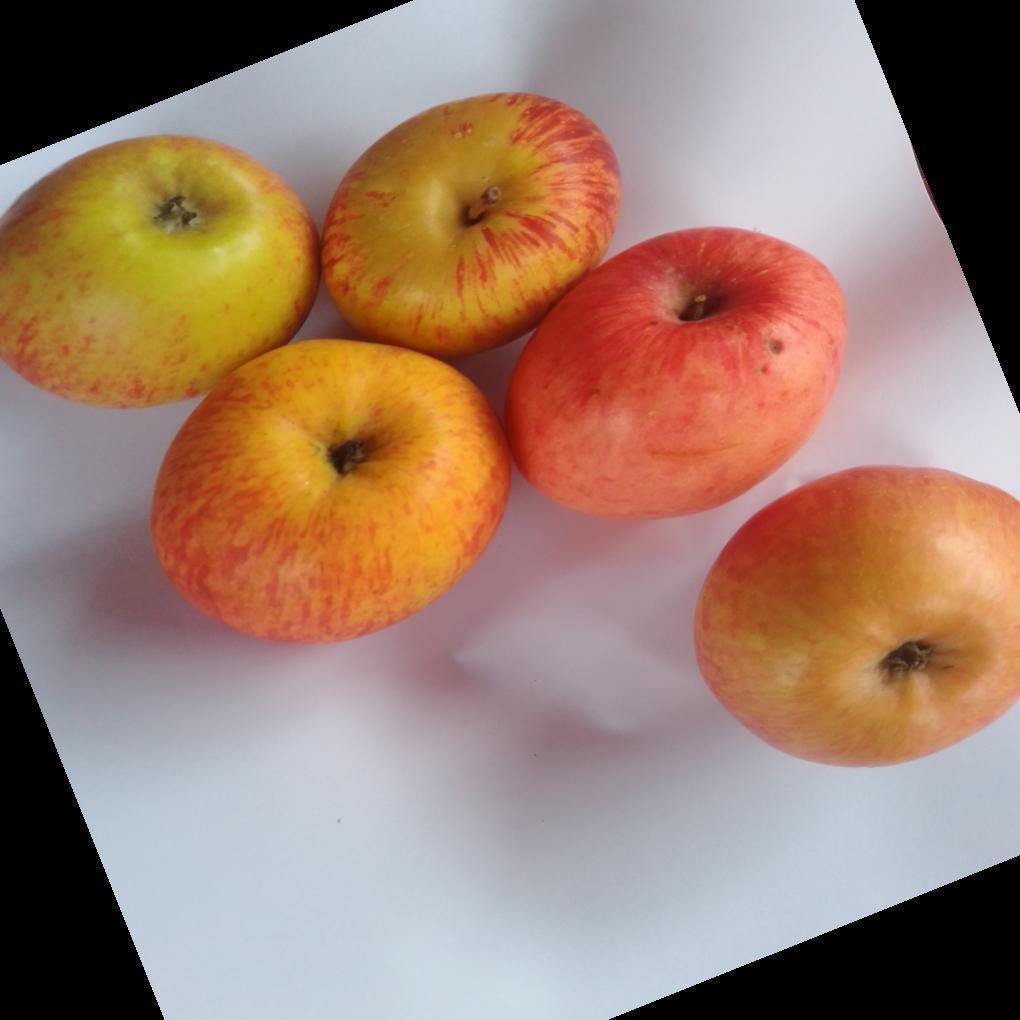FreshGuava: (0, 93, 850, 646), (691, 466, 1011, 756)
